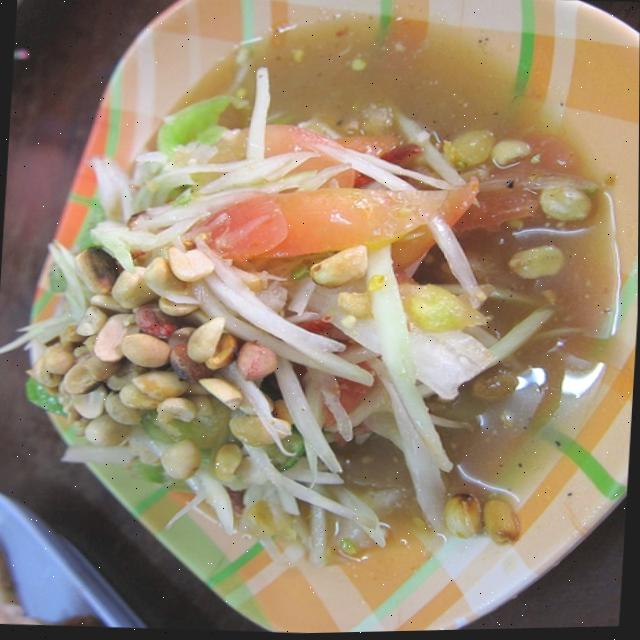蔬菜料理: (14, 10, 608, 630)
